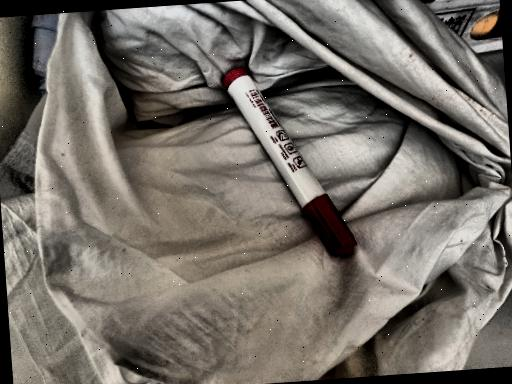marcador rojo: (222, 67, 356, 257)
